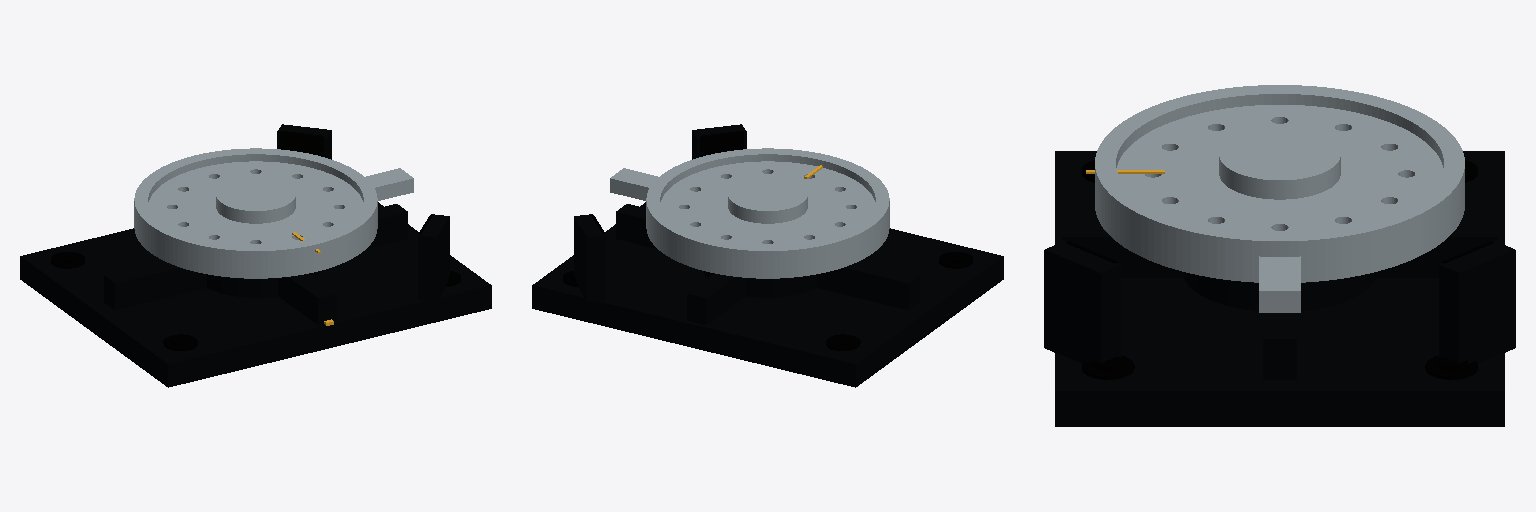
The robot description file, URDF, robot "compact_rotary_indexing_base":
<robot name="compact_rotary_indexing_base">
  <material name="powder_coated_frame">
    <color rgba="0.035 0.045 0.055 1" />
    </material>
  <material name="machined_turntable">
    <color rgba="0.62 0.66 0.68 1" />
    </material>
  <material name="black_oxide_fasteners">
    <color rgba="0.015 0.015 0.014 1" />
    </material>
  <material name="black_stop_bumper">
    <color rgba="0.02 0.018 0.016 1" />
    </material>
  <material name="engraved_index_mark">
    <color rgba="0.92 0.68 0.2 1" />
    </material>
  <link name="support_frame">
    <visual name="base_plate">
      <origin xyz="0 0 0.015" rpy="0 0 0" />
      <geometry>
        <box size="0.43 0.34 0.03" />
        </geometry>
      <material name="powder_coated_frame">
        <color rgba="0.035 0.045 0.055 1" />
        </material>
      </visual>
    <visual name="bearing_sleeve">
      <origin xyz="0 0 0.0295" rpy="0 0 0" />
      <geometry>
        <mesh filename="assets/meshes/bearing_sleeve.obj" />
        </geometry>
      <material name="powder_coated_frame">
        <color rgba="0.035 0.045 0.055 1" />
        </material>
      </visual>
    <visual name="rib_0">
      <origin xyz="0.125 0 0.047" rpy="0 0 0" />
      <geometry>
        <box size="0.14 0.026 0.035" />
        </geometry>
      <material name="powder_coated_frame">
        <color rgba="0.035 0.045 0.055 1" />
        </material>
      </visual>
    <visual name="rib_1">
      <origin xyz="-0.125 0 0.047" rpy="0 0 0" />
      <geometry>
        <box size="0.14 0.026 0.035" />
        </geometry>
      <material name="powder_coated_frame">
        <color rgba="0.035 0.045 0.055 1" />
        </material>
      </visual>
    <visual name="rib_2">
      <origin xyz="0 0.105 0.047" rpy="0 0 0" />
      <geometry>
        <box size="0.026 0.12 0.035" />
        </geometry>
      <material name="powder_coated_frame">
        <color rgba="0.035 0.045 0.055 1" />
        </material>
      </visual>
    <visual name="rib_3">
      <origin xyz="0 -0.105 0.047" rpy="0 0 0" />
      <geometry>
        <box size="0.026 0.12 0.035" />
        </geometry>
      <material name="powder_coated_frame">
        <color rgba="0.035 0.045 0.055 1" />
        </material>
      </visual>
    <visual name="washer_0">
      <origin xyz="-0.175 -0.13 0.0313" rpy="0 0 0" />
      <geometry>
        <cylinder radius="0.02" length="0.0035" />
        </geometry>
      <material name="black_oxide_fasteners">
        <color rgba="0.015 0.015 0.014 1" />
        </material>
      </visual>
    <visual name="bolt_0">
      <origin xyz="-0.175 -0.13 0.0333" rpy="0 0 0.523599" />
      <geometry>
        <mesh filename="assets/meshes/hex_bolt_head.obj" />
        </geometry>
      <material name="black_oxide_fasteners">
        <color rgba="0.015 0.015 0.014 1" />
        </material>
      </visual>
    <visual name="washer_1">
      <origin xyz="-0.175 0.13 0.0313" rpy="0 0 0" />
      <geometry>
        <cylinder radius="0.02" length="0.0035" />
        </geometry>
      <material name="black_oxide_fasteners">
        <color rgba="0.015 0.015 0.014 1" />
        </material>
      </visual>
    <visual name="bolt_1">
      <origin xyz="-0.175 0.13 0.0333" rpy="0 0 0.523599" />
      <geometry>
        <mesh filename="assets/meshes/hex_bolt_head.obj" />
        </geometry>
      <material name="black_oxide_fasteners">
        <color rgba="0.015 0.015 0.014 1" />
        </material>
      </visual>
    <visual name="washer_2">
      <origin xyz="0.175 -0.13 0.0313" rpy="0 0 0" />
      <geometry>
        <cylinder radius="0.02" length="0.0035" />
        </geometry>
      <material name="black_oxide_fasteners">
        <color rgba="0.015 0.015 0.014 1" />
        </material>
      </visual>
    <visual name="bolt_2">
      <origin xyz="0.175 -0.13 0.0333" rpy="0 0 0.523599" />
      <geometry>
        <mesh filename="assets/meshes/hex_bolt_head.obj" />
        </geometry>
      <material name="black_oxide_fasteners">
        <color rgba="0.015 0.015 0.014 1" />
        </material>
      </visual>
    <visual name="washer_3">
      <origin xyz="0.175 0.13 0.0313" rpy="0 0 0" />
      <geometry>
        <cylinder radius="0.02" length="0.0035" />
        </geometry>
      <material name="black_oxide_fasteners">
        <color rgba="0.015 0.015 0.014 1" />
        </material>
      </visual>
    <visual name="bolt_3">
      <origin xyz="0.175 0.13 0.0333" rpy="0 0 0.523599" />
      <geometry>
        <mesh filename="assets/meshes/hex_bolt_head.obj" />
        </geometry>
      <material name="black_oxide_fasteners">
        <color rgba="0.015 0.015 0.014 1" />
        </material>
      </visual>
    <visual name="stop_block_positive">
      <origin xyz="0.150714 0.149095 0.07075" rpy="0 0 0.78" />
      <geometry>
        <box size="0.022 0.06 0.0825" />
        </geometry>
      <material name="powder_coated_frame">
        <color rgba="0.035 0.045 0.055 1" />
        </material>
      </visual>
    <visual name="stop_bumper_positive">
      <origin xyz="0.143605 0.142062 0.098" rpy="0 0 0.78" />
      <geometry>
        <box size="0.003 0.052 0.03" />
        </geometry>
      <material name="black_stop_bumper">
        <color rgba="0.02 0.018 0.016 1" />
        </material>
      </visual>
    <visual name="stop_block_negative">
      <origin xyz="0.150714 -0.149095 0.07075" rpy="0 0 -0.78" />
      <geometry>
        <box size="0.022 0.06 0.0825" />
        </geometry>
      <material name="powder_coated_frame">
        <color rgba="0.035 0.045 0.055 1" />
        </material>
      </visual>
    <visual name="stop_bumper_negative">
      <origin xyz="0.143605 -0.142062 0.098" rpy="0 0 -0.78" />
      <geometry>
        <box size="0.003 0.052 0.03" />
        </geometry>
      <material name="black_stop_bumper">
        <color rgba="0.02 0.018 0.016 1" />
        </material>
      </visual>
    <visual name="front_pointer">
      <origin xyz="0 -0.146 0.0315" rpy="0 0 0" />
      <geometry>
        <box size="0.01 0.05 0.004" />
        </geometry>
      <material name="engraved_index_mark">
        <color rgba="0.92 0.68 0.2 1" />
        </material>
      </visual>
    <collision name="base_plate">
      <origin xyz="0 0 0.015" rpy="0 0 0" />
      <geometry>
        <box size="0.43 0.34 0.03" />
        </geometry>
      </collision>
    <collision name="bearing_sleeve">
      <origin xyz="0 0 0.0295" rpy="0 0 0" />
      <geometry>
        <mesh filename="assets/meshes/bearing_sleeve.obj" />
        </geometry>
      </collision>
    <collision name="rib_0">
      <origin xyz="0.125 0 0.047" rpy="0 0 0" />
      <geometry>
        <box size="0.14 0.026 0.035" />
        </geometry>
      </collision>
    <collision name="rib_1">
      <origin xyz="-0.125 0 0.047" rpy="0 0 0" />
      <geometry>
        <box size="0.14 0.026 0.035" />
        </geometry>
      </collision>
    <collision name="rib_2">
      <origin xyz="0 0.105 0.047" rpy="0 0 0" />
      <geometry>
        <box size="0.026 0.12 0.035" />
        </geometry>
      </collision>
    <collision name="rib_3">
      <origin xyz="0 -0.105 0.047" rpy="0 0 0" />
      <geometry>
        <box size="0.026 0.12 0.035" />
        </geometry>
      </collision>
    <collision name="washer_0">
      <origin xyz="-0.175 -0.13 0.0313" rpy="0 0 0" />
      <geometry>
        <cylinder radius="0.02" length="0.0035" />
        </geometry>
      </collision>
    <collision name="bolt_0">
      <origin xyz="-0.175 -0.13 0.0333" rpy="0 0 0.523599" />
      <geometry>
        <mesh filename="assets/meshes/hex_bolt_head.obj" />
        </geometry>
      </collision>
    <collision name="washer_1">
      <origin xyz="-0.175 0.13 0.0313" rpy="0 0 0" />
      <geometry>
        <cylinder radius="0.02" length="0.0035" />
        </geometry>
      </collision>
    <collision name="bolt_1">
      <origin xyz="-0.175 0.13 0.0333" rpy="0 0 0.523599" />
      <geometry>
        <mesh filename="assets/meshes/hex_bolt_head.obj" />
        </geometry>
      </collision>
    <collision name="washer_2">
      <origin xyz="0.175 -0.13 0.0313" rpy="0 0 0" />
      <geometry>
        <cylinder radius="0.02" length="0.0035" />
        </geometry>
      </collision>
    <collision name="bolt_2">
      <origin xyz="0.175 -0.13 0.0333" rpy="0 0 0.523599" />
      <geometry>
        <mesh filename="assets/meshes/hex_bolt_head.obj" />
        </geometry>
      </collision>
    <collision name="washer_3">
      <origin xyz="0.175 0.13 0.0313" rpy="0 0 0" />
      <geometry>
        <cylinder radius="0.02" length="0.0035" />
        </geometry>
      </collision>
    <collision name="bolt_3">
      <origin xyz="0.175 0.13 0.0333" rpy="0 0 0.523599" />
      <geometry>
        <mesh filename="assets/meshes/hex_bolt_head.obj" />
        </geometry>
      </collision>
    <collision name="stop_block_positive">
      <origin xyz="0.150714 0.149095 0.07075" rpy="0 0 0.78" />
      <geometry>
        <box size="0.022 0.06 0.0825" />
        </geometry>
      </collision>
    <collision name="stop_bumper_positive">
      <origin xyz="0.143605 0.142062 0.098" rpy="0 0 0.78" />
      <geometry>
        <box size="0.003 0.052 0.03" />
        </geometry>
      </collision>
    <collision name="stop_block_negative">
      <origin xyz="0.150714 -0.149095 0.07075" rpy="0 0 -0.78" />
      <geometry>
        <box size="0.022 0.06 0.0825" />
        </geometry>
      </collision>
    <collision name="stop_bumper_negative">
      <origin xyz="0.143605 -0.142062 0.098" rpy="0 0 -0.78" />
      <geometry>
        <box size="0.003 0.052 0.03" />
        </geometry>
      </collision>
    <collision name="front_pointer">
      <origin xyz="0 -0.146 0.0315" rpy="0 0 0" />
      <geometry>
        <box size="0.01 0.05 0.004" />
        </geometry>
      </collision>
    </link>
  <link name="turntable">
    <visual name="turntable_body">
      <geometry>
        <mesh filename="assets/meshes/turntable_body.obj" />
        </geometry>
      <material name="machined_turntable">
        <color rgba="0.62 0.66 0.68 1" />
        </material>
      </visual>
    <visual name="spindle">
      <origin xyz="0 0 -0.025" rpy="0 0 0" />
      <geometry>
        <cylinder radius="0.033" length="0.056" />
        </geometry>
      <material name="machined_turntable">
        <color rgba="0.62 0.66 0.68 1" />
        </material>
      </visual>
    <visual name="stop_tab">
      <origin xyz="0.166 0 0.013" rpy="0 0 0" />
      <geometry>
        <box size="0.07 0.032 0.018" />
        </geometry>
      <material name="machined_turntable">
        <color rgba="0.62 0.66 0.68 1" />
        </material>
      </visual>
    <visual name="zero_mark">
      <origin xyz="0 -0.117 0.0275" rpy="0 0 0" />
      <geometry>
        <box size="0.004 0.06 0.002" />
        </geometry>
      <material name="engraved_index_mark">
        <color rgba="0.92 0.68 0.2 1" />
        </material>
      </visual>
    <collision name="turntable_body">
      <geometry>
        <mesh filename="assets/meshes/turntable_body.obj" />
        </geometry>
      </collision>
    <collision name="spindle">
      <origin xyz="0 0 -0.025" rpy="0 0 0" />
      <geometry>
        <cylinder radius="0.033" length="0.056" />
        </geometry>
      </collision>
    <collision name="stop_tab">
      <origin xyz="0.166 0 0.013" rpy="0 0 0" />
      <geometry>
        <box size="0.07 0.032 0.018" />
        </geometry>
      </collision>
    <collision name="zero_mark">
      <origin xyz="0 -0.117 0.0275" rpy="0 0 0" />
      <geometry>
        <box size="0.004 0.06 0.002" />
        </geometry>
      </collision>
    </link>
  <joint name="yaw_axis" type="revolute">
    <origin xyz="0 0 0.085" rpy="0 0 0" />
    <parent link="support_frame" />
    <child link="turntable" />
    <axis xyz="0 0 1" />
    <limit effort="45" velocity="1.2" lower="-0.78" upper="0.78" />
    <dynamics damping="0.8" friction="0.25" />
    </joint>
  </robot>

--- What the picture shows (computed from the rendered views, not written in the file) ---
The picture shows the robot from 3 angles, left to right: view 1: azimuth 30°, elevation 25°; view 2: azimuth 150°, elevation 25°; view 3: azimuth 270°, elevation 25°; orthographic projection.
Robot: compact_rotary_indexing_base — 2 links, 1 joints (1 revolute); root link support_frame; default pose: all joints at 0.
Links seen in each view (by area): view 1: support_frame, turntable; view 2: support_frame, turntable; view 3: support_frame, turntable.
Link boxes in pixels (box(x1,y1,x2,y2)): support_frame: box(20, 124, 491, 387); turntable: box(134, 148, 413, 278); support_frame: box(532, 124, 1003, 387); turntable: box(610, 148, 889, 278); support_frame: box(1044, 151, 1515, 426); turntable: box(1086, 85, 1464, 312).
Size in the robot's own frame: 0.43 by 0.3563 by 0.127 metres.
Meshes: 3 distinct files referenced, 6 mesh visuals loaded (3 OBJ).
